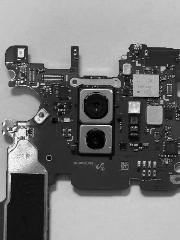electronic: (1, 12, 179, 238)
